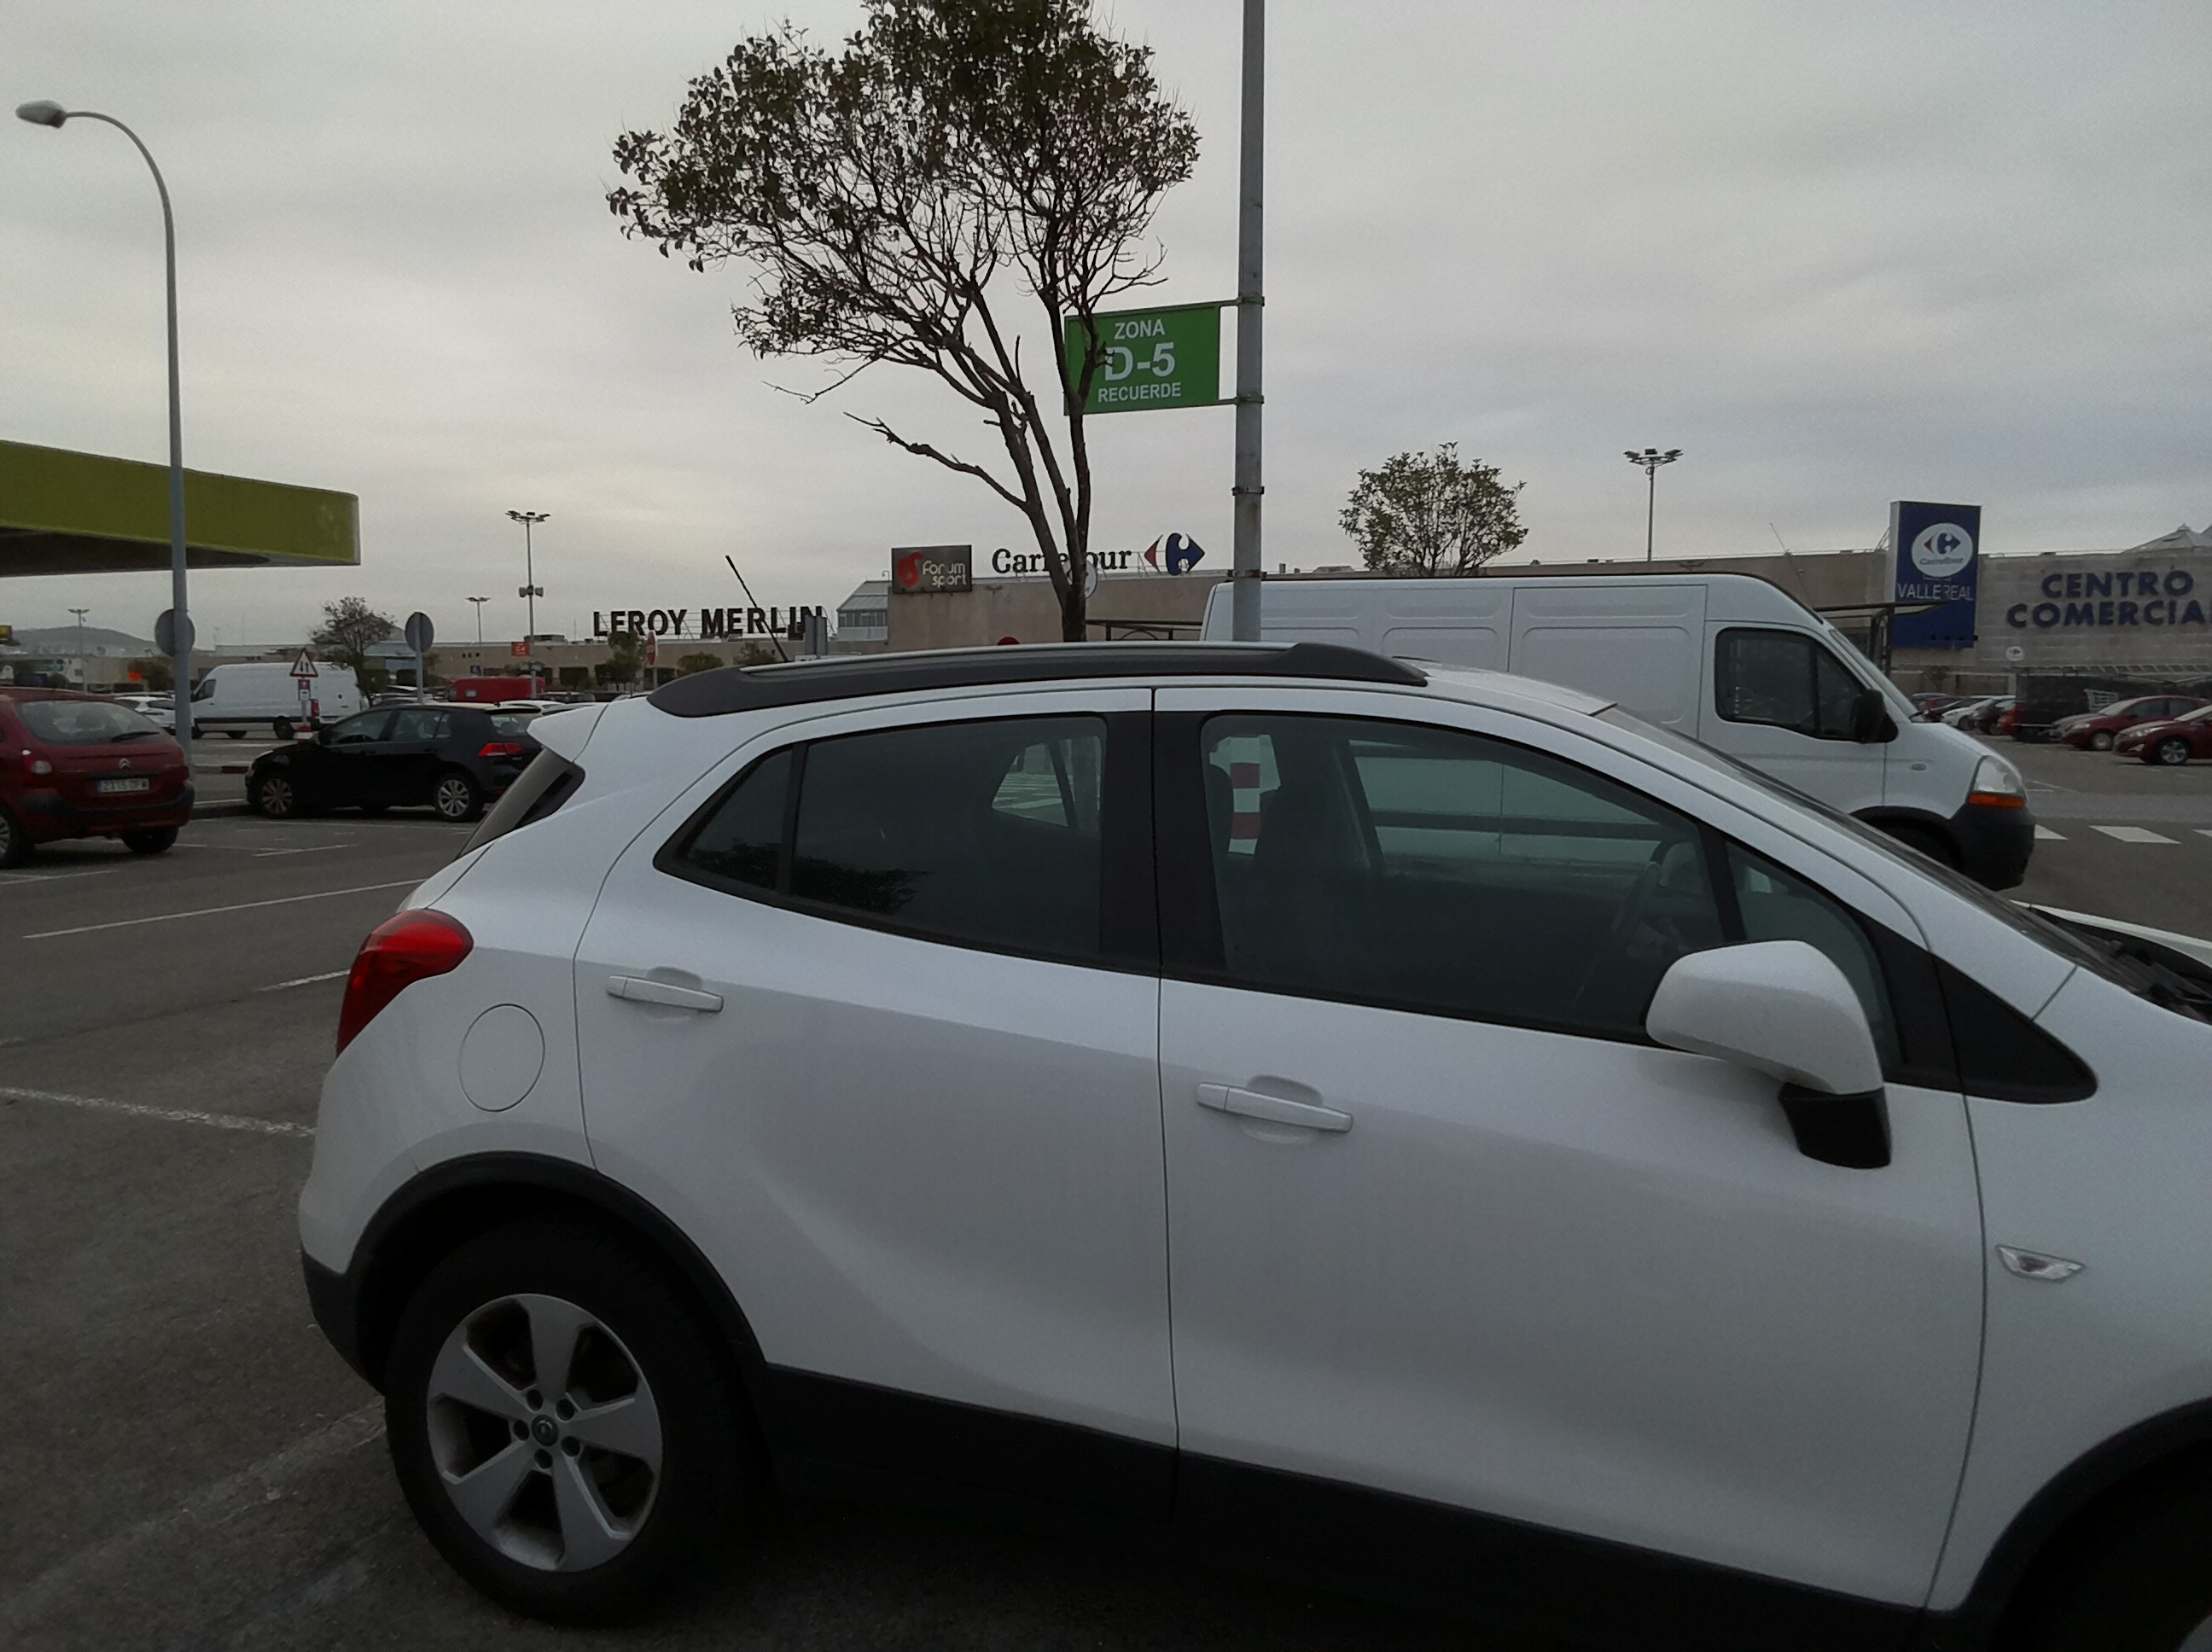Vehiculo: (309, 647, 2212, 1633)
